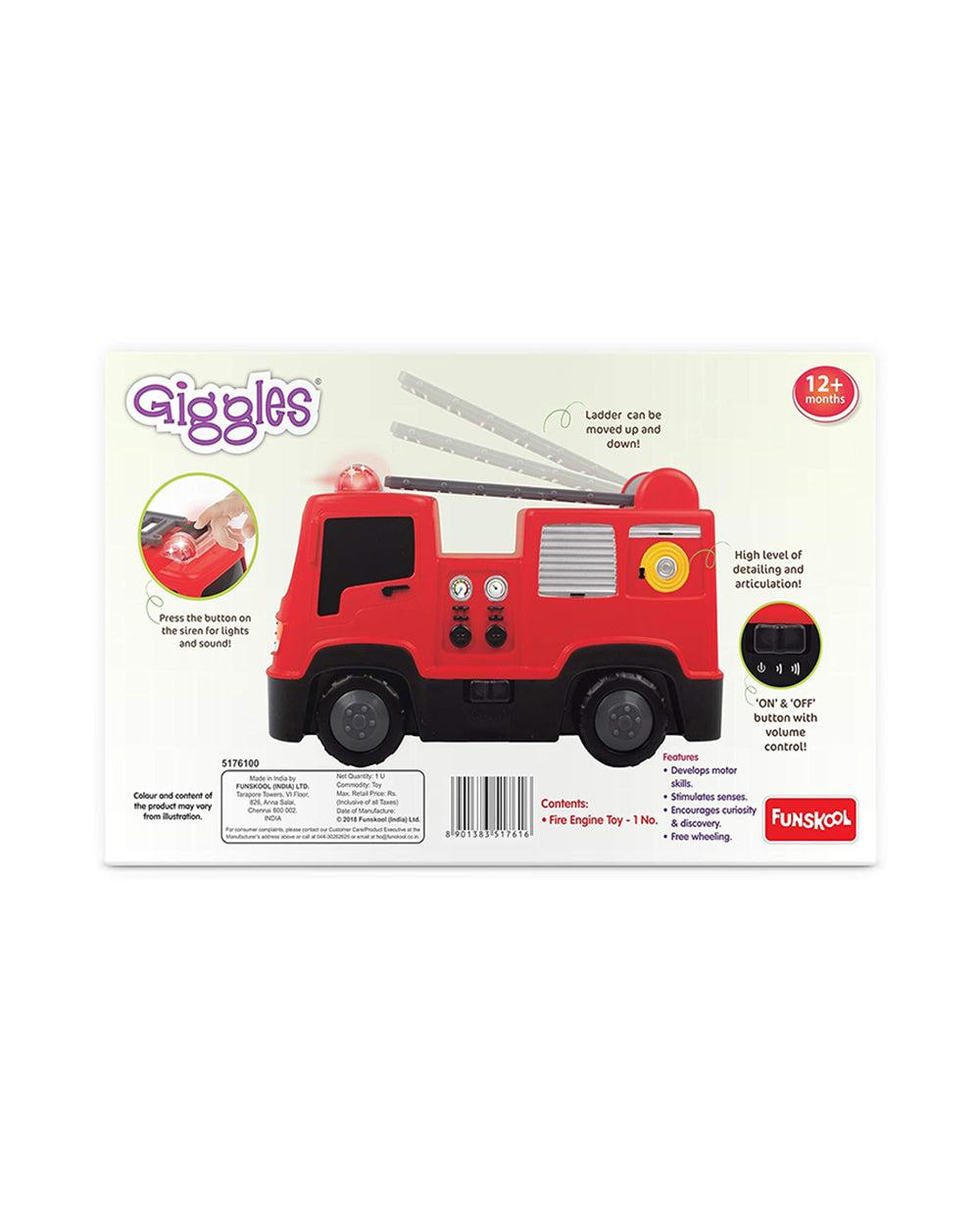Fire-engine: (284, 441, 737, 785)
